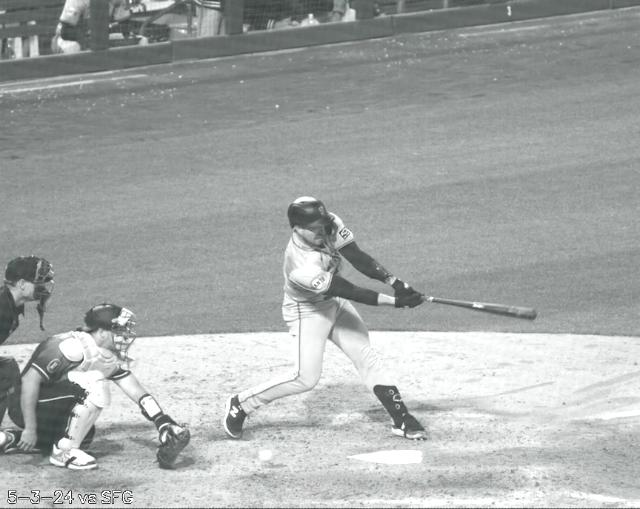ball: (259, 450, 273, 466)
bat: (424, 291, 536, 323)
